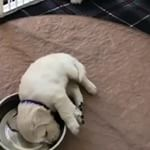puppy: (13, 49, 102, 146)
